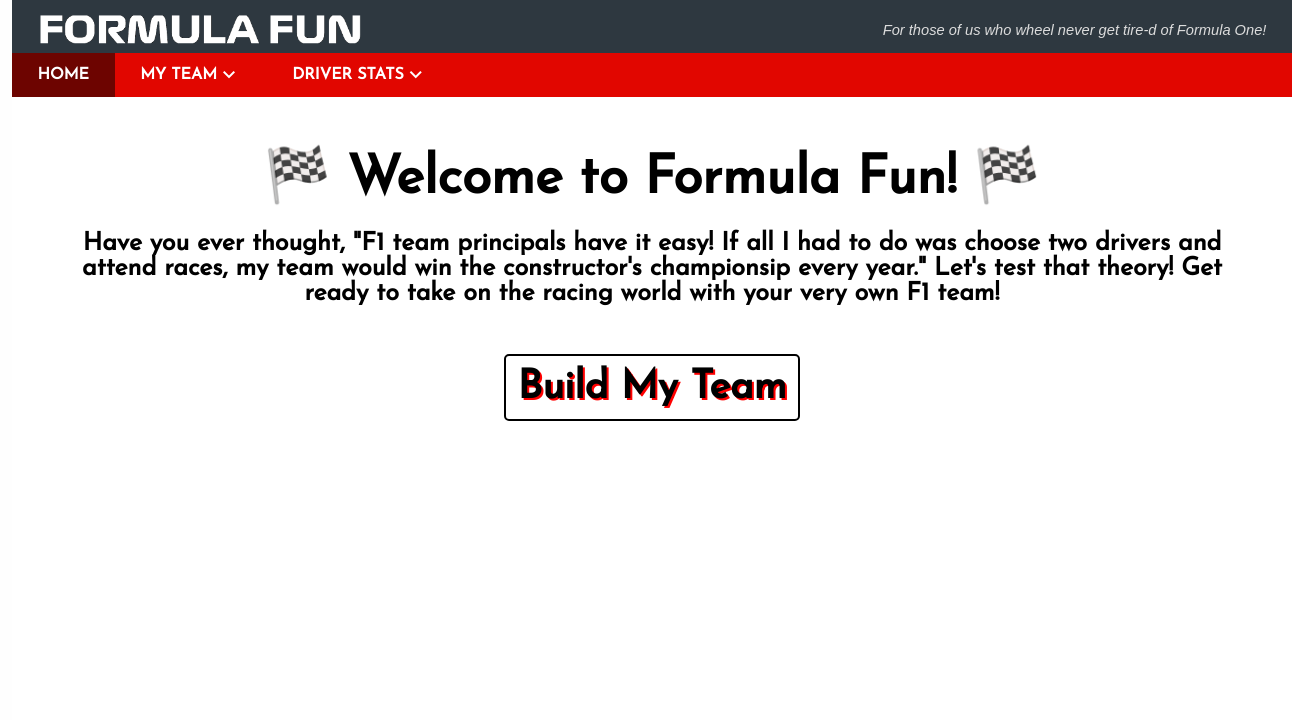
Test: Home/Instructional Page › allows users to click around each link in the header
The image size is (1292, 720).
Click the link to "/team" at (191, 75), box [140,61,241,89]
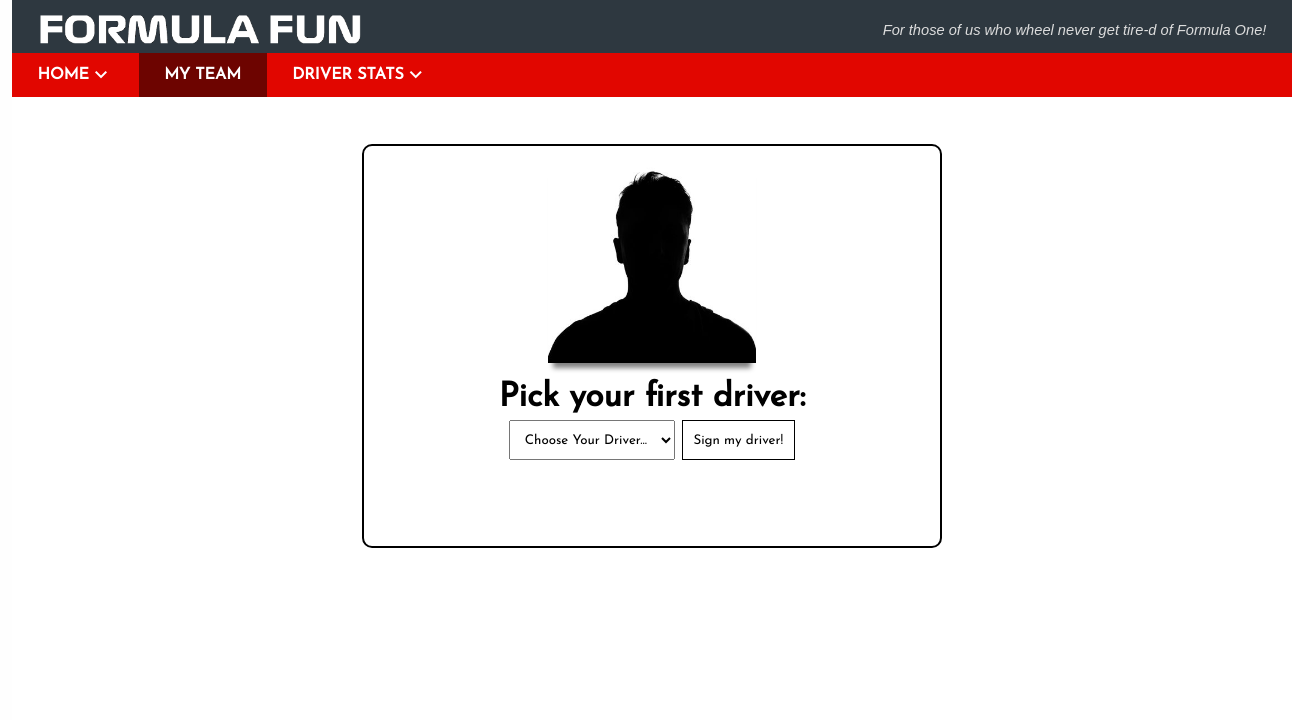
Expected: the element with class "default-driver" is shown, [362,144,942,548]
Click the link to "/drivers" at (360, 75), box [292,61,428,89]
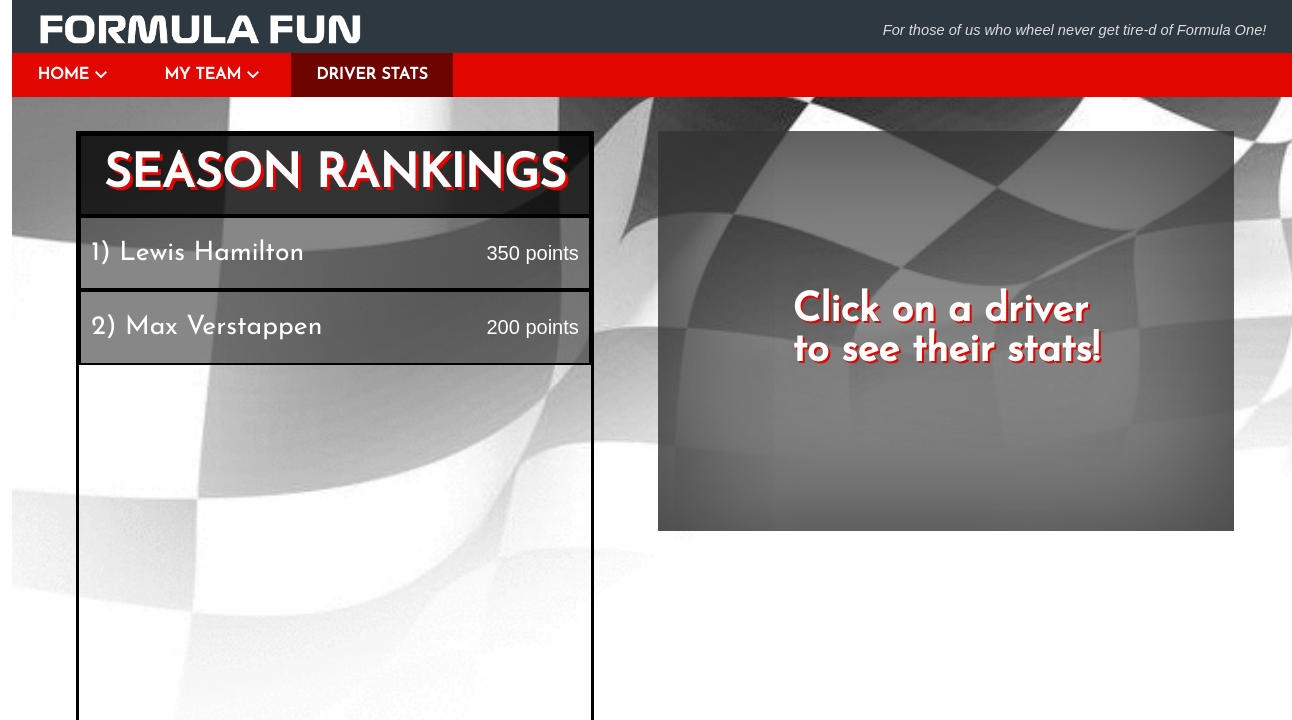
Expected: the element with class "full-rankings" is shown, [76,131,594,719]
